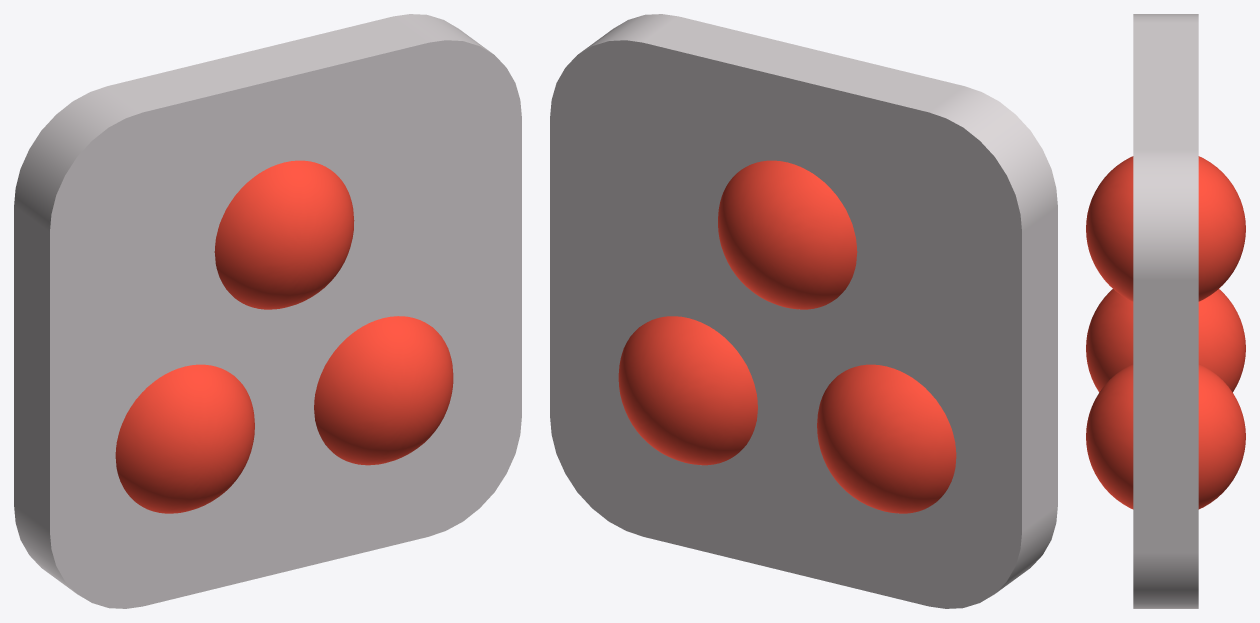
Rendered from asana.gltf.
The picture shows the model from 3 angles, left to right: view 1: azimuth 30°, elevation 25°; view 2: azimuth 150°, elevation 25°; view 3: azimuth 270°, elevation 25°; orthographic projection. The views are drawn at different scales.
Visible parts, largest first — view 1: Body1 4, Body1 3, Body1 2, Body1; view 2: Body1 4, Body1 3, Body1 2, Body1; view 3: Body1 4, Body1 3, Body1, Body1 2.
Boxes of the visible parts, x1,y1,x2,y2 form: Body1 4: (14,14,521,608); Body1 3: (314,316,453,465); Body1 2: (115,364,254,513); Body1: (214,160,354,309); Body1 4: (550,14,1057,608); Body1 3: (618,316,757,465); Body1 2: (817,364,956,513); Body1: (718,160,857,309); Body1 4: (1133,14,1198,608); Body1 3: (1086,364,1245,509); Body1: (1086,156,1245,301); Body1 2: (1086,289,1245,392).
Size of the model in its own units: 0.076 by 0.076 by 0.0245.
